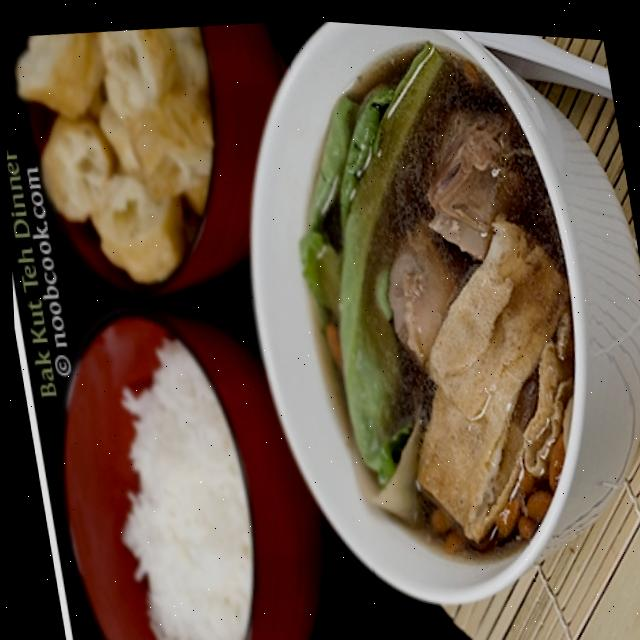汤锅炖物: (263, 48, 595, 551)
